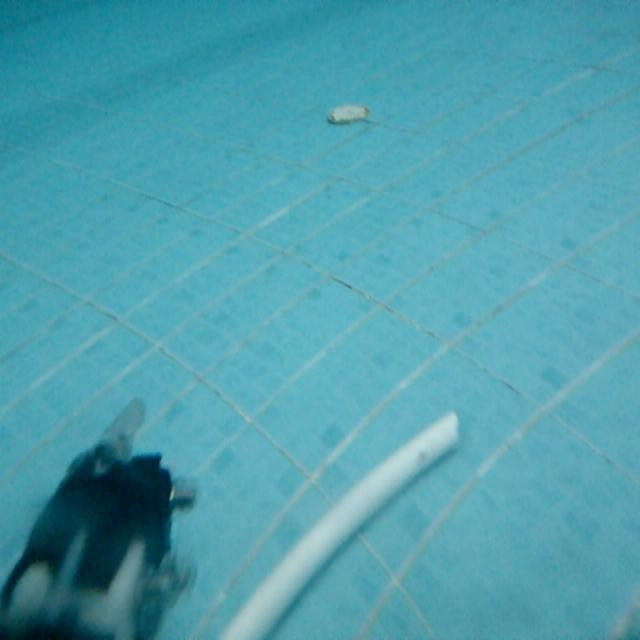Cube: (205, 404, 462, 639)
